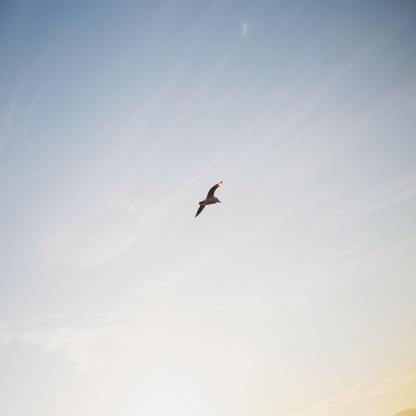bird: (194, 180, 224, 218)
